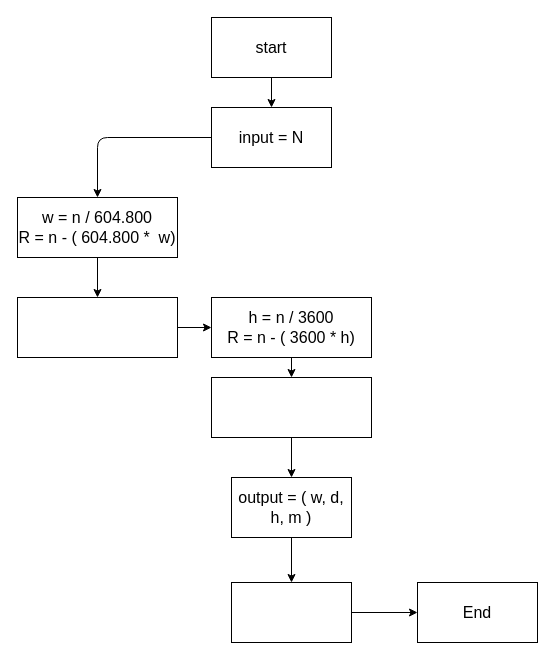
Image size: 555x660. Some labels were removed from this diagram. Each missing label, with the box of its shape:
d = n / 86.406 R = n - ( 86.406 * d): (16, 296, 178, 358)
m = n / 60 R = n - ( 60 * m ): (210, 376, 372, 438)
sum: (230, 582, 352, 642)
